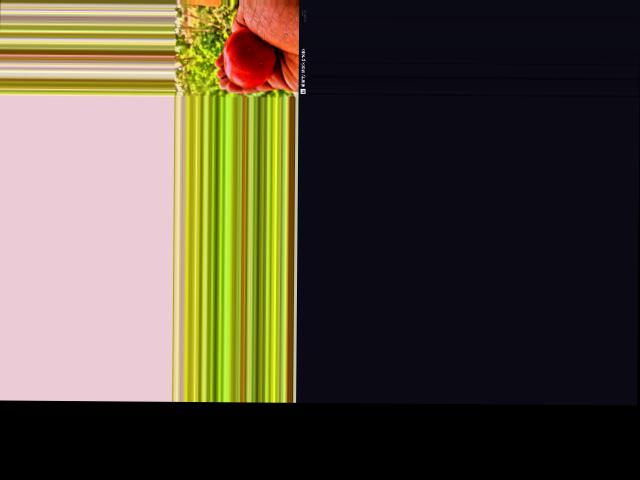tomato: (223, 28, 275, 87)
